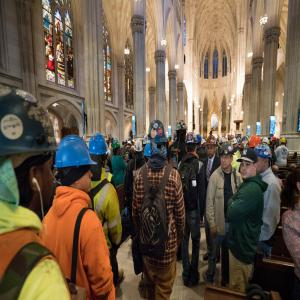blue: (2, 89, 55, 215), (57, 136, 93, 194), (150, 121, 167, 154), (90, 135, 107, 166), (255, 145, 272, 175), (187, 132, 199, 156), (177, 120, 188, 142), (145, 144, 153, 164), (197, 135, 203, 148), (125, 140, 129, 146), (216, 139, 219, 145)
none: (241, 148, 257, 179), (272, 166, 280, 178), (107, 140, 110, 149), (132, 141, 134, 147), (123, 143, 125, 147)
red: (273, 137, 277, 146)
white: (135, 141, 144, 156), (144, 136, 151, 147), (233, 139, 238, 149), (202, 140, 207, 148), (128, 142, 133, 149), (220, 138, 224, 146), (133, 140, 135, 146)
yellow: (207, 136, 217, 159), (281, 139, 287, 147)
